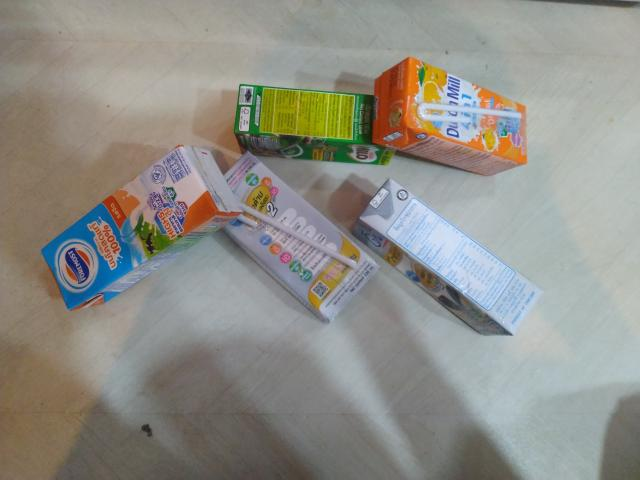drink_box: (30, 123, 252, 334), (338, 174, 551, 353), (222, 149, 387, 329), (367, 54, 545, 192), (224, 75, 385, 165)
